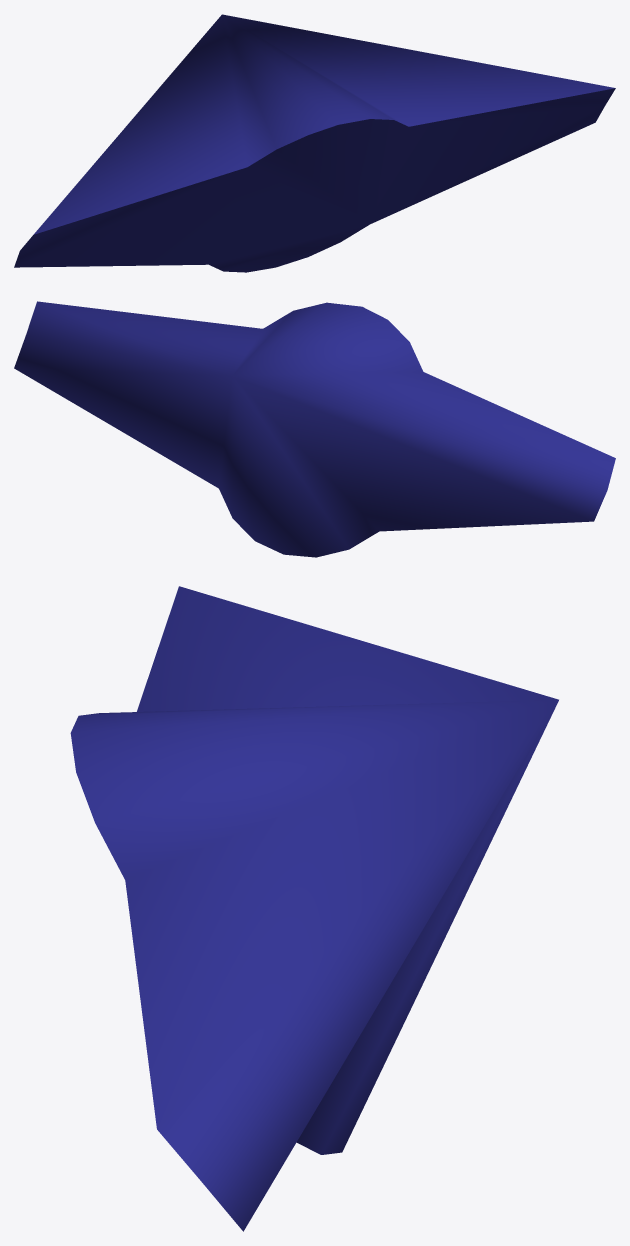
The model's file is hikouki.fbx.
3 views of the same model, one above another, from view 1: azimuth 30°, elevation 25°; view 2: azimuth 150°, elevation 25°; view 3: azimuth 270°, elevation 25° (orthographic). The views are drawn at different scales.
Parts seen in each view (by area): view 1: pCone1; view 2: pCone1; view 3: pCone1.
Part boxes in pixels (<box>): pCone1: <box>14,14,615,272</box>; pCone1: <box>14,301,615,557</box>; pCone1: <box>70,586,558,1231</box>.
Size of the model in its own units: 3.78 by 1.34 by 1.38.
